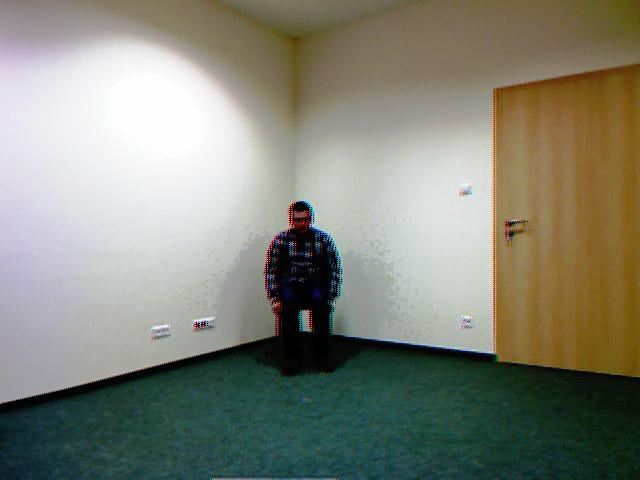sitting: (262, 193, 351, 383)
